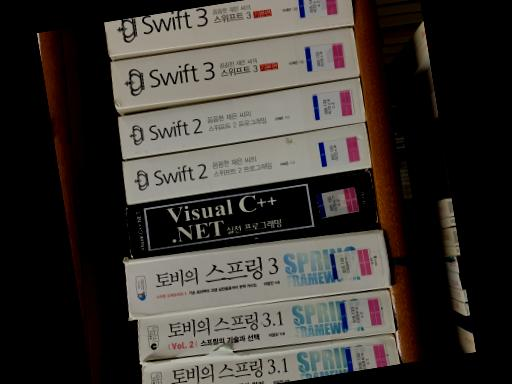book-spine: (123, 229, 391, 318), (125, 169, 377, 256), (110, 25, 359, 108), (117, 76, 365, 158), (122, 121, 371, 202), (138, 288, 396, 360), (104, 0, 353, 55), (141, 333, 399, 384)
